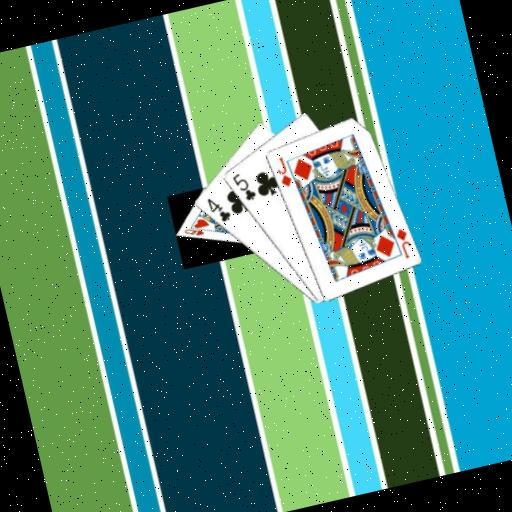4C: (203, 192, 233, 227)
5C: (228, 167, 258, 205)
JD: (271, 153, 295, 191), (391, 223, 415, 261)
